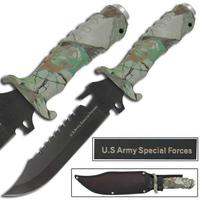knife: (1, 4, 193, 198), (72, 167, 198, 193)
